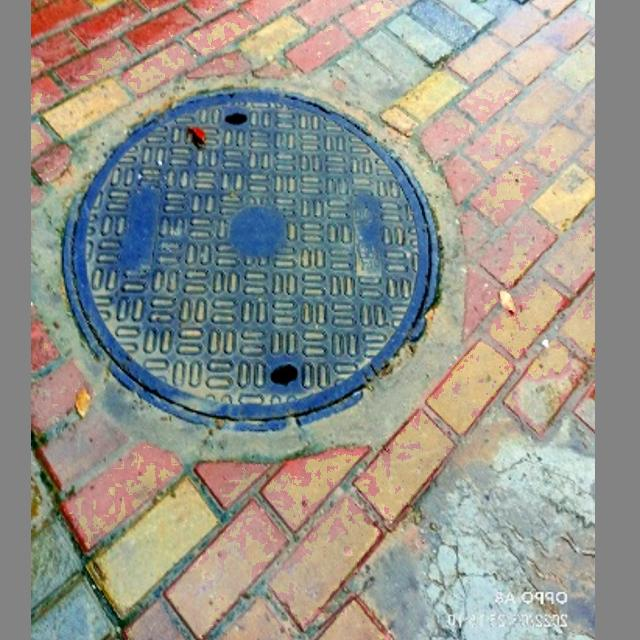good: (58, 88, 440, 431)
